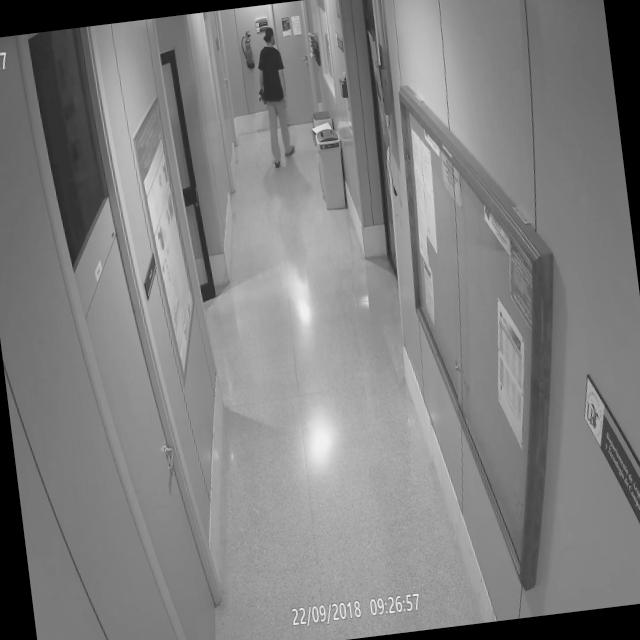gun: (254, 82, 268, 111)
person with a gun: (249, 21, 297, 172)
